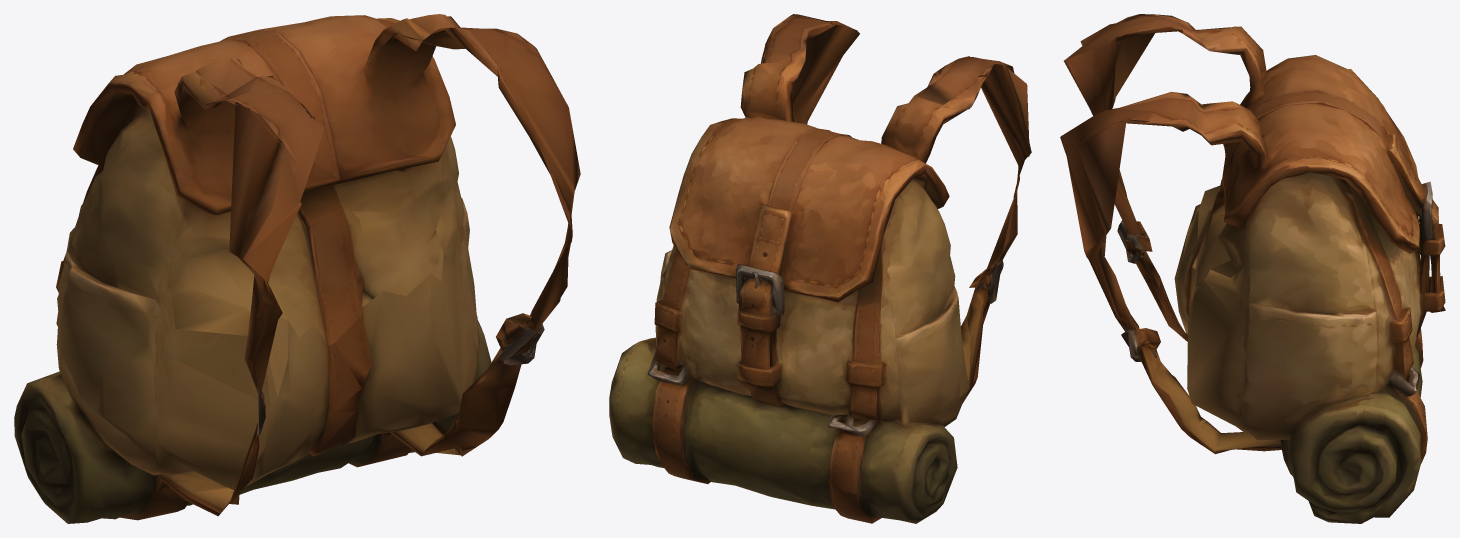
The model's file is large_pack.glb.
3 renders of one model, left to right at view 1: azimuth 30°, elevation 25°; view 2: azimuth 150°, elevation 25°; view 3: azimuth 270°, elevation 25°, orthographic. The views are drawn at different scales.
Visible parts, largest first — view 1: large_pack; view 2: large_pack; view 3: large_pack.
Boxes of the visible parts, x1,y1,x2,y2 form: large_pack: (14,14,580,523); large_pack: (609,14,1031,523); large_pack: (1060,14,1445,523).
Bounding box in the file's own units: 0.4461 × 0.5294 × 0.4664.
Materials: 1 (1 with a texture image).
